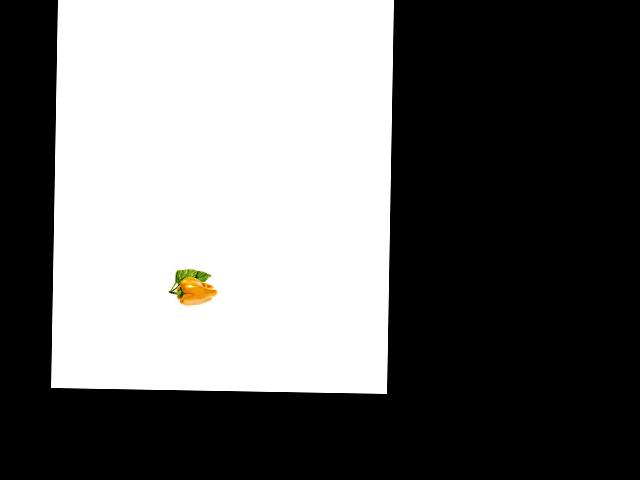bell_pepper: (167, 276, 218, 308)
